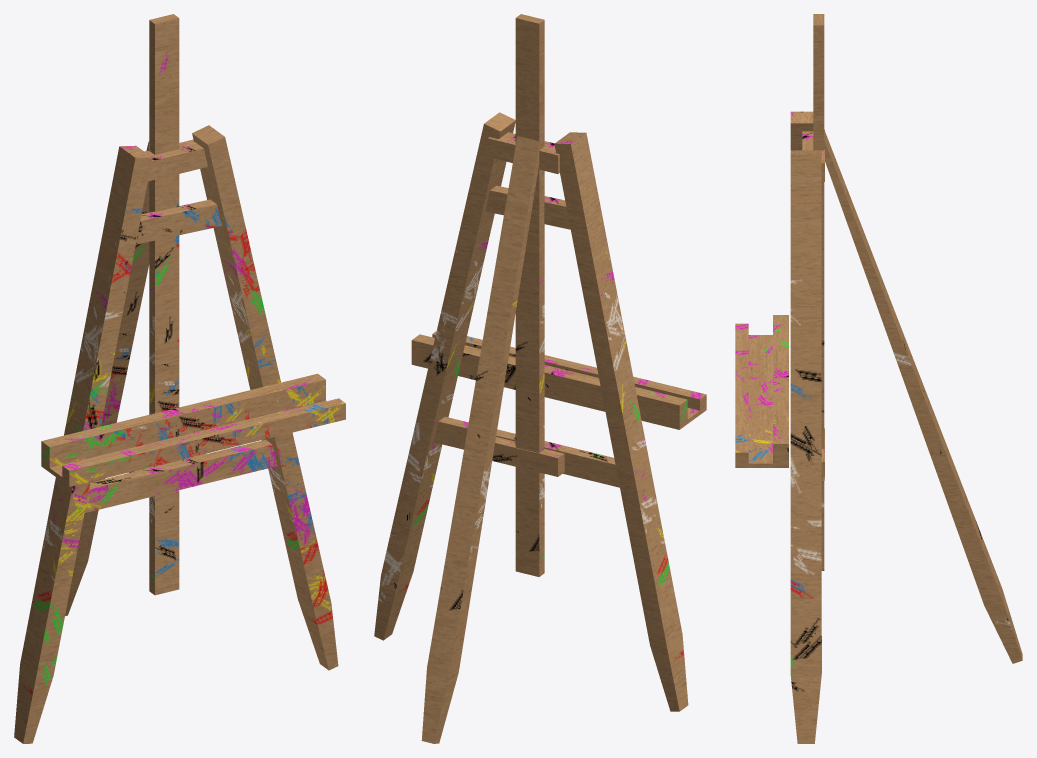
File: Easel.fbx
3 renders of one model, left to right at view 1: azimuth 30°, elevation 25°; view 2: azimuth 150°, elevation 25°; view 3: azimuth 270°, elevation 25°, orthographic. The views are drawn at different scales.
Visible parts, largest first — view 1: Easel; view 2: Easel; view 3: Easel.
Boxes of the visible parts, x1,y1,x2,y2 form: Easel: (14, 14, 345, 743); Easel: (374, 14, 706, 743); Easel: (735, 14, 1022, 743).
Size of the model in its own units: 123 by 255 by 102.
1 material, 1 textured.
